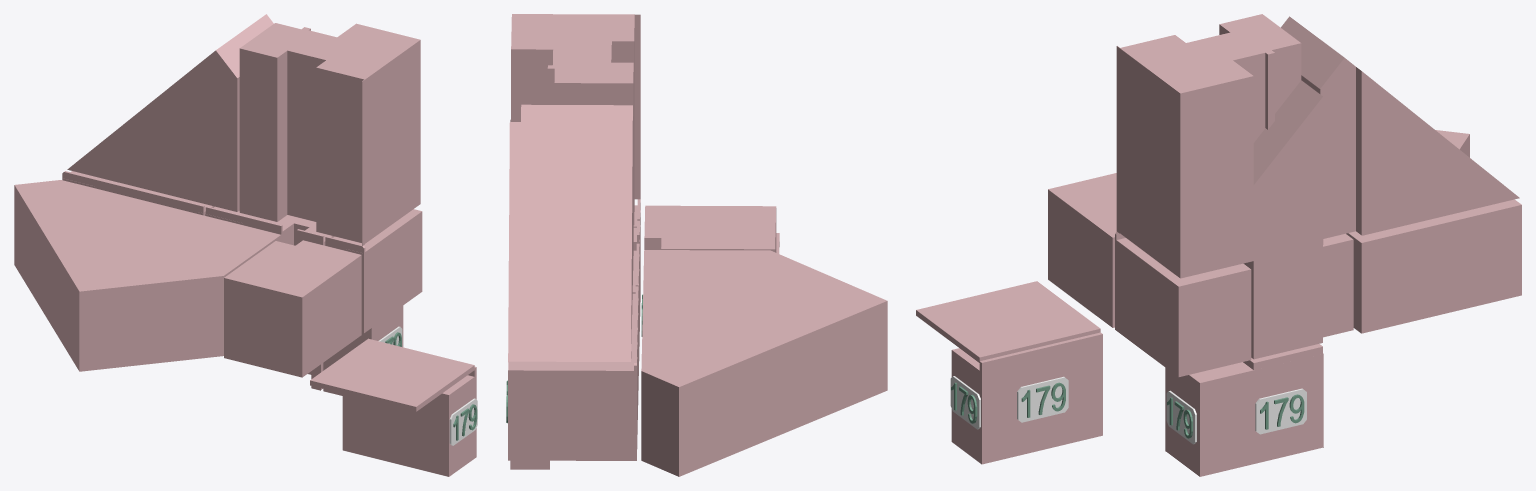
The picture shows the model from 3 angles, left to right: view 1: azimuth 30°, elevation 25°; view 2: azimuth 150°, elevation 25°; view 3: azimuth 270°, elevation 25°; orthographic projection. The views are drawn at different scales.
Visible parts, largest first — view 1: g_3, g_5, g_2, g_10, g_1, g_13, g_9, g_7, g_6, g_0, g_25; view 2: g_5, g_2, g_6, g_3, g_10, g_7; view 3: g_3, g_2, g_6, g_9, g_1, g_4, g_13, g_10, g_12, g_11, g_0, g_8 (+4 smaller).
Part boxes in pixels (x1,y1,x2,y2): g_3: [239, 23, 420, 246]; g_5: [14, 180, 281, 371]; g_2: [67, 14, 273, 211]; g_10: [224, 240, 361, 377]; g_1: [342, 366, 476, 476]; g_13: [310, 338, 474, 411]; g_9: [325, 209, 422, 333]; g_7: [205, 206, 334, 245]; g_6: [62, 171, 214, 215]; g_0: [323, 305, 403, 395]; g_25: [449, 398, 477, 445]; g_5: [641, 250, 887, 476]; g_2: [508, 104, 633, 361]; g_6: [508, 286, 638, 460]; g_3: [511, 14, 640, 255]; g_10: [644, 205, 776, 252]; g_7: [632, 220, 639, 375]; g_3: [1116, 14, 1301, 278]; g_2: [1281, 16, 1519, 238]; g_6: [1346, 199, 1521, 333]; g_9: [1115, 232, 1251, 377]; g_1: [951, 332, 1102, 464]; g_4: [1253, 80, 1323, 261]; g_13: [916, 281, 1100, 362]; g_10: [1048, 173, 1116, 327]; g_12: [1227, 344, 1323, 467]; g_11: [1243, 245, 1322, 359]; g_0: [1165, 366, 1237, 476]; g_8: [1323, 233, 1353, 337].
Bounding box in the file's own units: 10.63 × 10.34 × 14.6.
